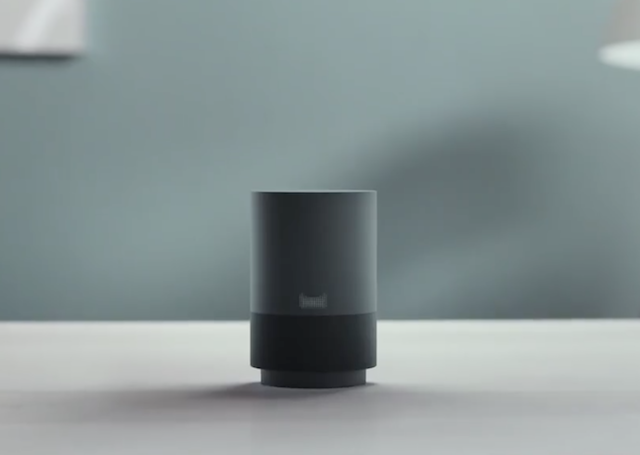audio: (233, 177, 399, 399)
